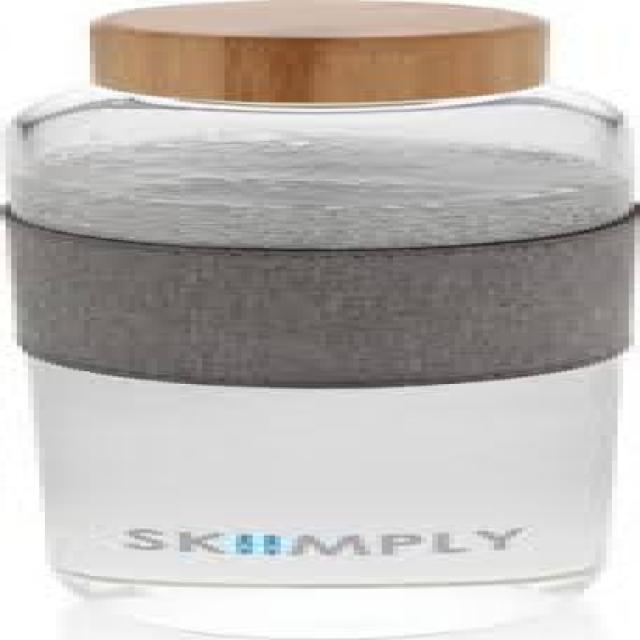glass: (6, 86, 618, 584)
